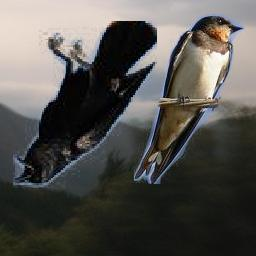Crow: (13, 22, 157, 189)
Swallow: (135, 14, 246, 184)
